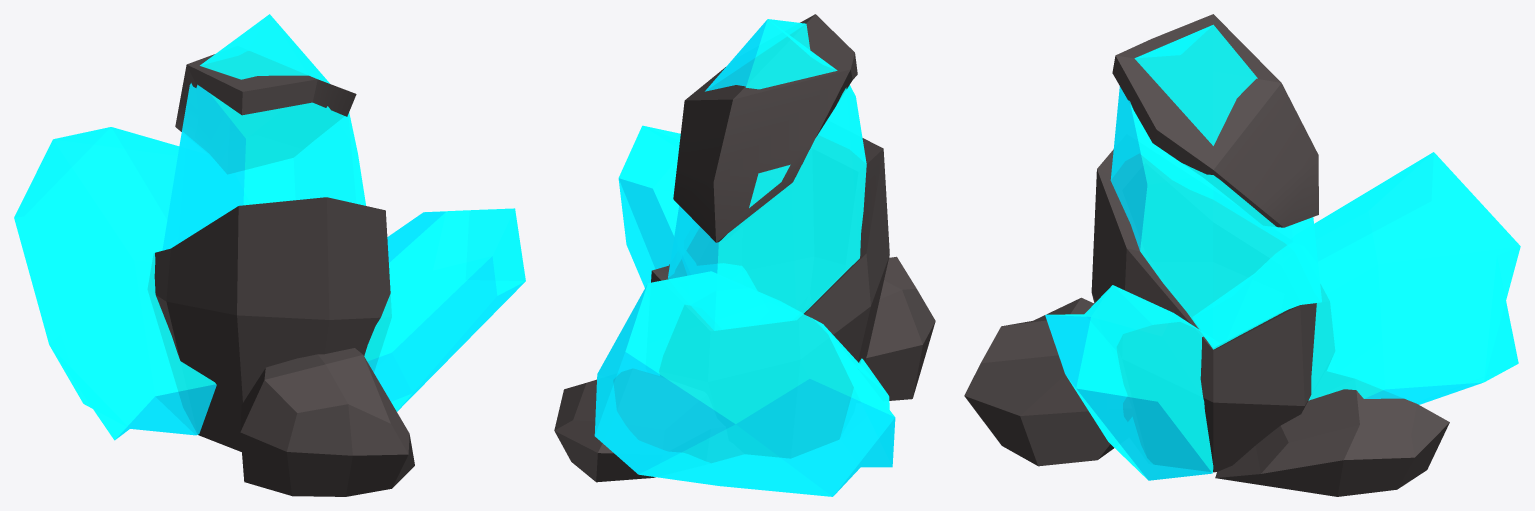
File: Mdl_Ore1.fbx
3 renders of one model, left to right at view 1: azimuth 30°, elevation 25°; view 2: azimuth 150°, elevation 25°; view 3: azimuth 270°, elevation 25°, orthographic. The views are drawn at different scales.
Visible parts, largest first — view 1: mena001; view 2: mena001; view 3: mena001.
Boxes of the visible parts, left/top/right/bottom form: mena001: left=14, top=14, right=525, bottom=496; mena001: left=554, top=14, right=935, bottom=496; mena001: left=964, top=14, right=1520, bottom=496.
Bounding box in the file's own units: 0.7835 × 0.8318 × 1.02.
